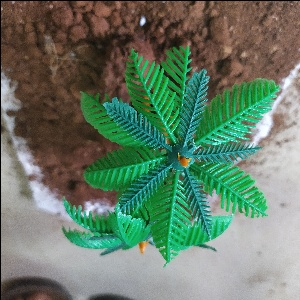plant: (64, 41, 264, 253)
